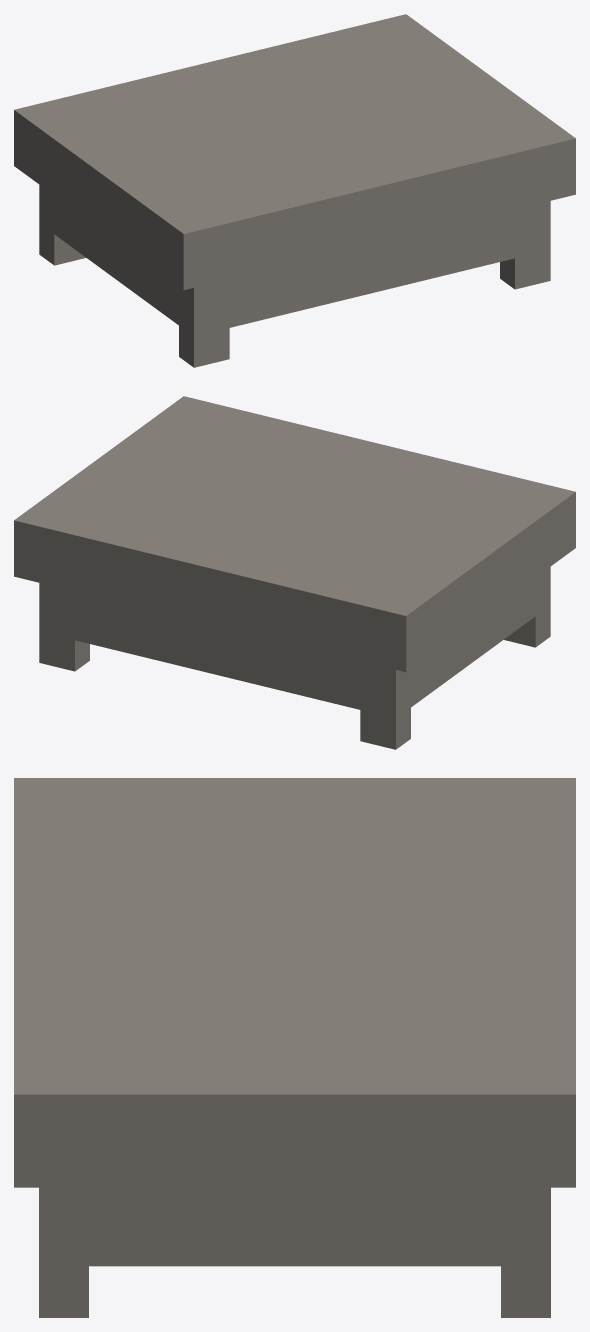
The model's file is pk_ott_grey.glb.
The picture shows the model from 3 angles, top to bottom: view 1: azimuth 30°, elevation 25°; view 2: azimuth 150°, elevation 25°; view 3: azimuth 270°, elevation 25°; orthographic projection. The views are drawn at different scales.
Visible parts, largest first — view 1: pk_ott_grey; view 2: pk_ott_grey; view 3: pk_ott_grey.
Boxes of the visible parts, x1,y1,x2,y2 form: pk_ott_grey: (14,14,575,367); pk_ott_grey: (14,396,575,749); pk_ott_grey: (14,778,575,1317).
Bounding box in the file's own units: 1.2 × 0.42 × 0.9.
1 material, 1 textured.
